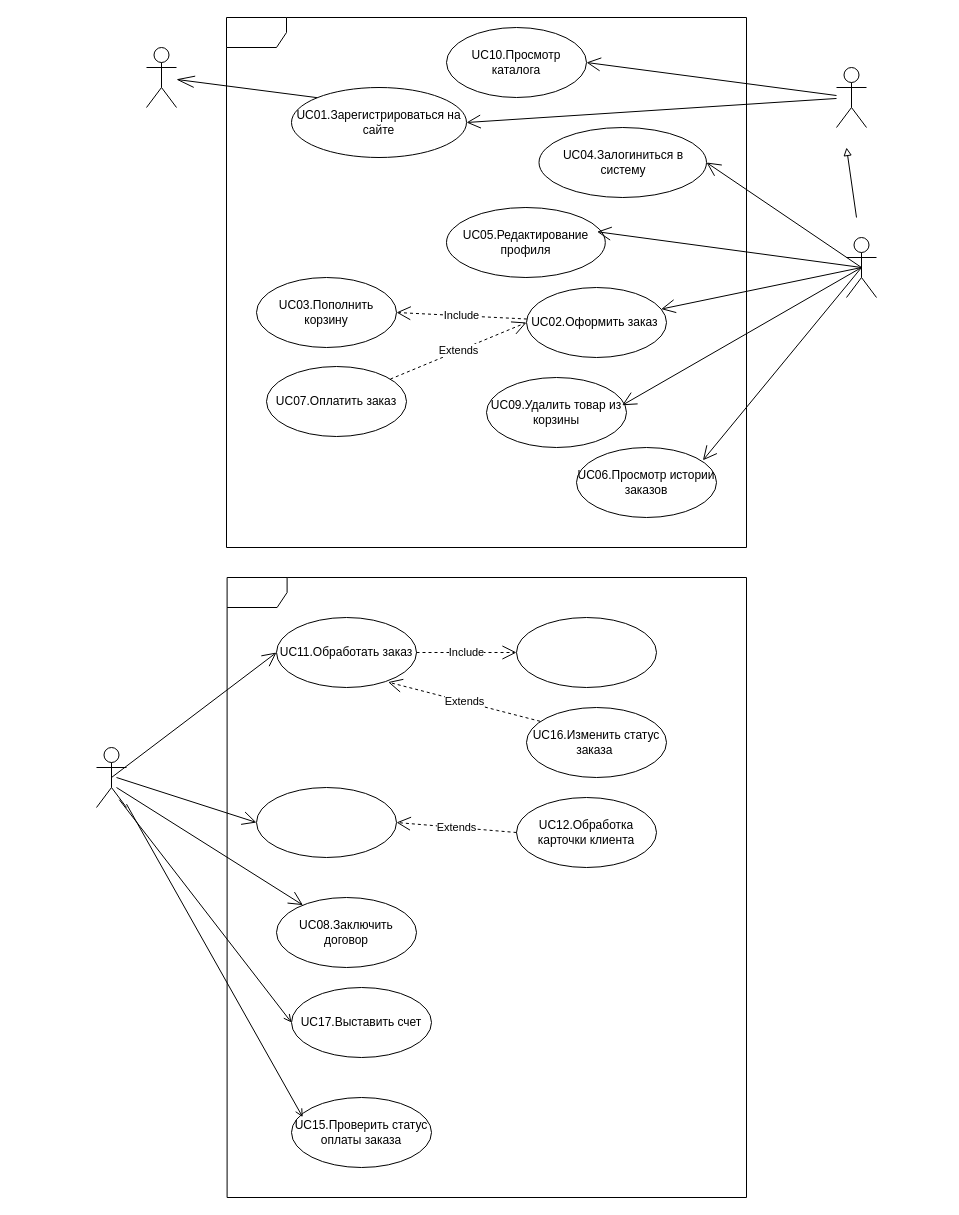
The diagram is 959 pixels wide and 1215 high, and some of its shapes have lost their labels. The box of each missing label's shape, as (x1, y1, x2, y2) in pixels:
CRM: (226, 576, 746, 1198)
GoogleAuth: (146, 46, 176, 108)
UC13.Просмотр списка клиентов: (256, 786, 396, 858)
UC14.Проверить наличие товаров: (516, 616, 656, 688)
Зарегистрированный Клиент: (846, 236, 876, 298)
Менеджер по работе с клиентами: (96, 746, 126, 808)
Новый клиент: (836, 66, 866, 128)
Сайт: (226, 16, 746, 548)
